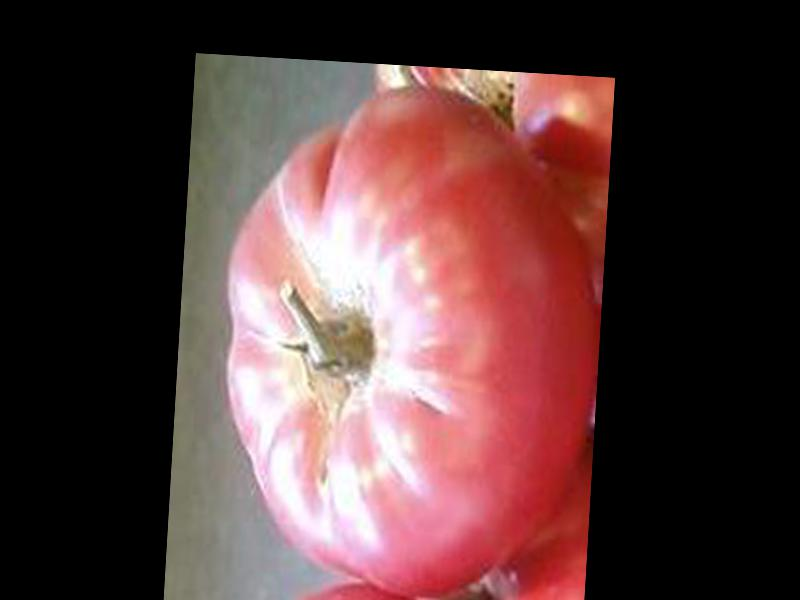Tomato: (211, 73, 611, 600)
